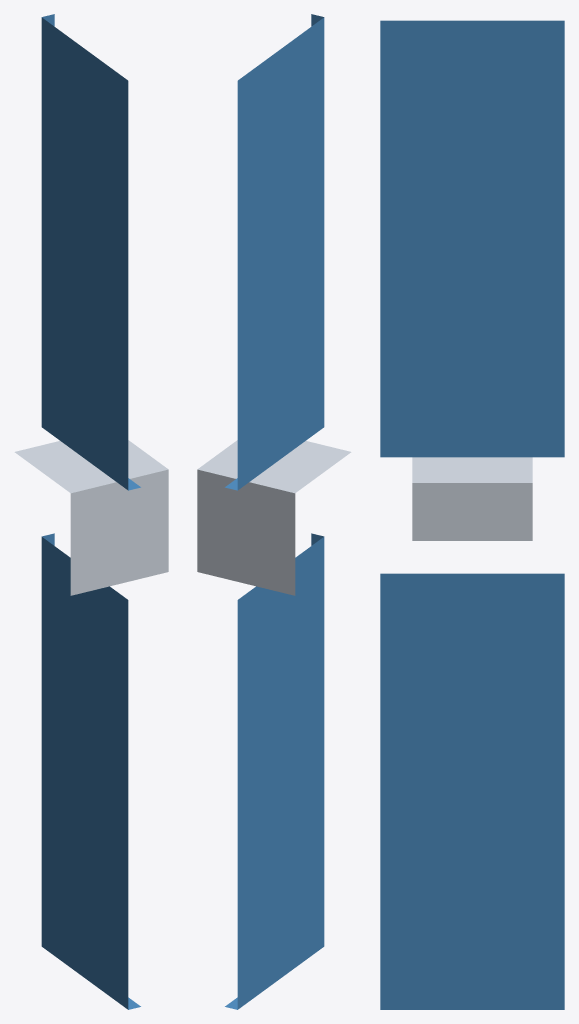
Rendered from satellite-demo.gltf.
3 views of the same model, side by side, from view 1: azimuth 30°, elevation 25°; view 2: azimuth 150°, elevation 25°; view 3: azimuth 270°, elevation 25° (orthographic). The views are drawn at different scales.
Visible parts, largest first — view 1: SatelliteBusAndSolarArrays; view 2: SatelliteBusAndSolarArrays; view 3: SatelliteBusAndSolarArrays.
Boxes of the visible parts, left/top/right/bottom form: SatelliteBusAndSolarArrays: left=14, top=14, right=168, bottom=1009; SatelliteBusAndSolarArrays: left=197, top=14, right=351, bottom=1009; SatelliteBusAndSolarArrays: left=380, top=20, right=564, bottom=1009.
Bounding box in the file's own units: 1.5 × 13.6 × 2.3.
